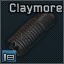AR-15 TROY Claymore 5.56x45 muzzle brake: (0, 0, 64, 64)
